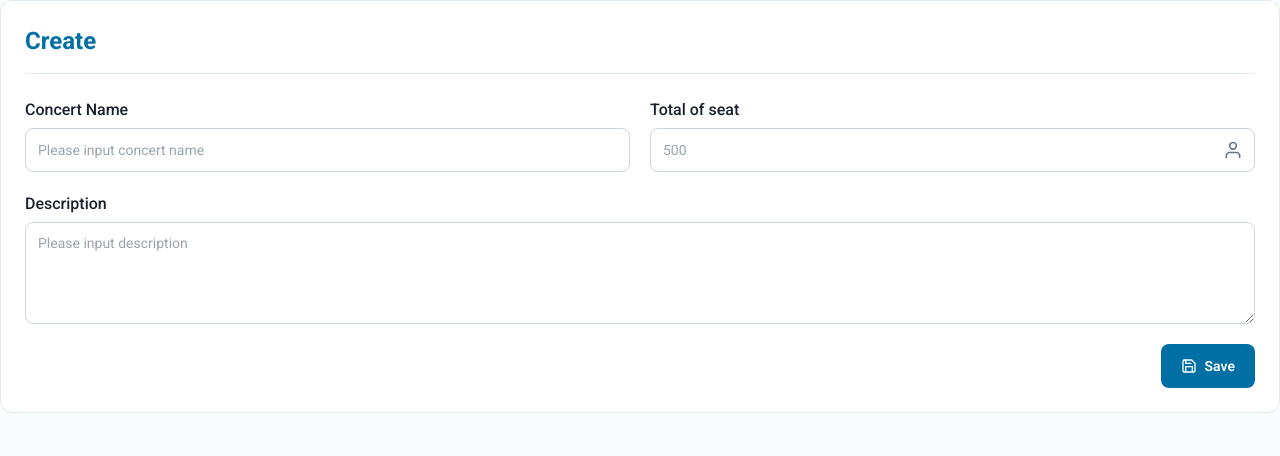
Test: ConcertForm validation › rejects non-positive seat counts
This screenshot has width=1280, height=456.
Type "Summer Live" into the field with test id "concert-name-input" at (328, 150), box [25, 128, 630, 172]
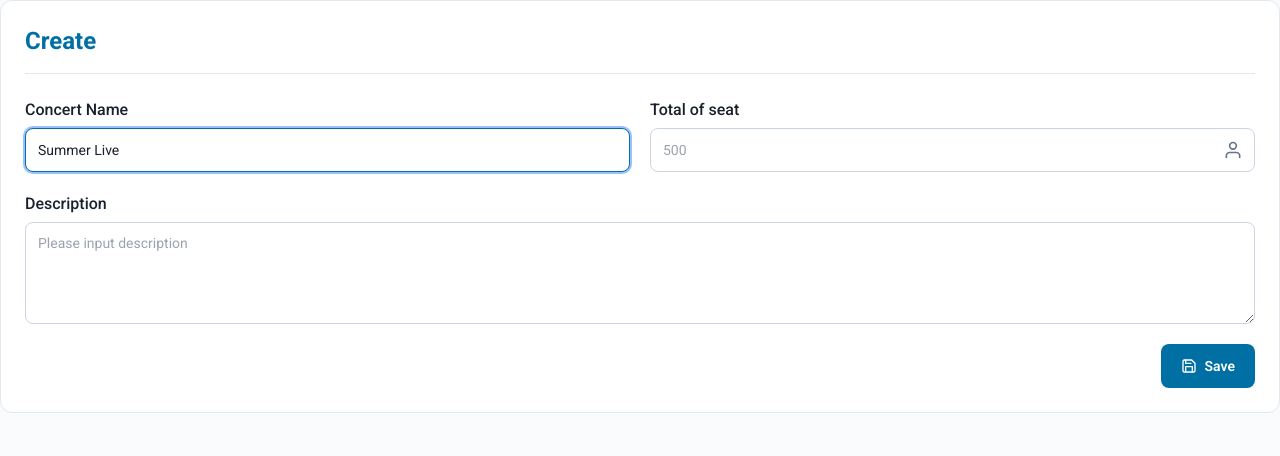
Type "Open-air" into the text box with test id "concert-description-input" at (640, 273), box [25, 222, 1255, 324]
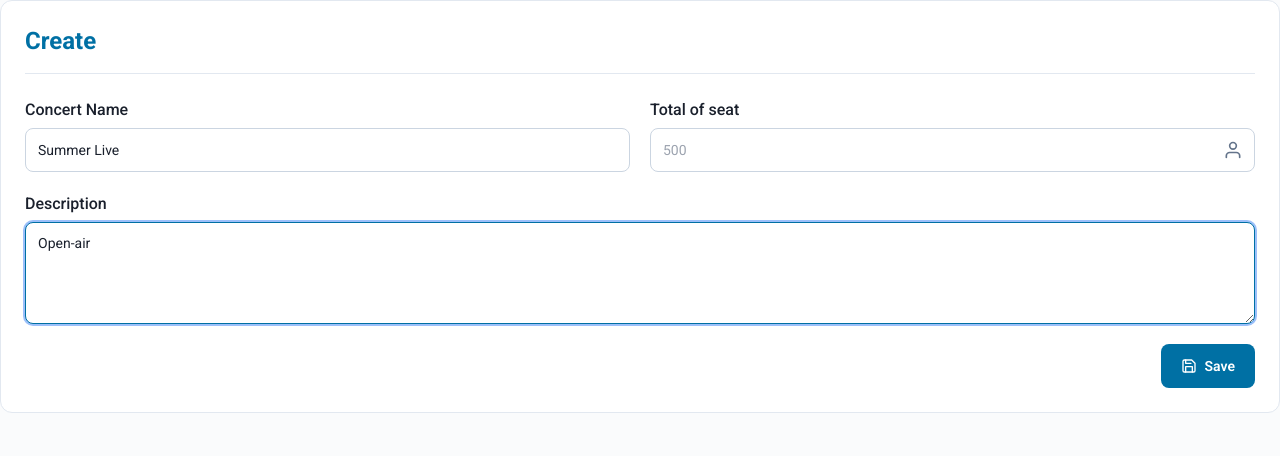
Type "0" into the number field with test id "concert-seats-input" at (952, 150), box [650, 128, 1255, 172]
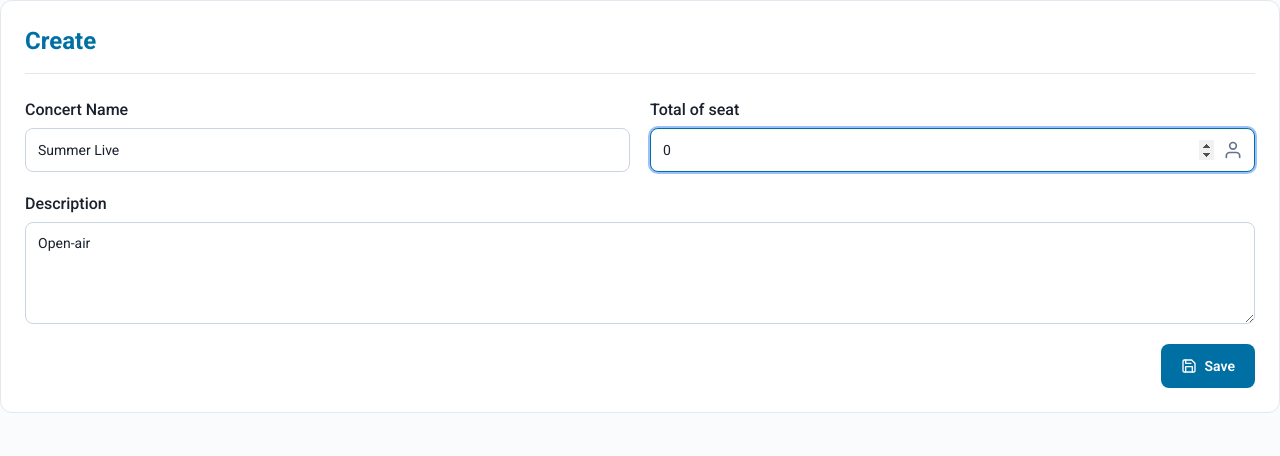
Click the button with test id "concert-save-btn" at (1208, 366), box [1161, 344, 1255, 388]
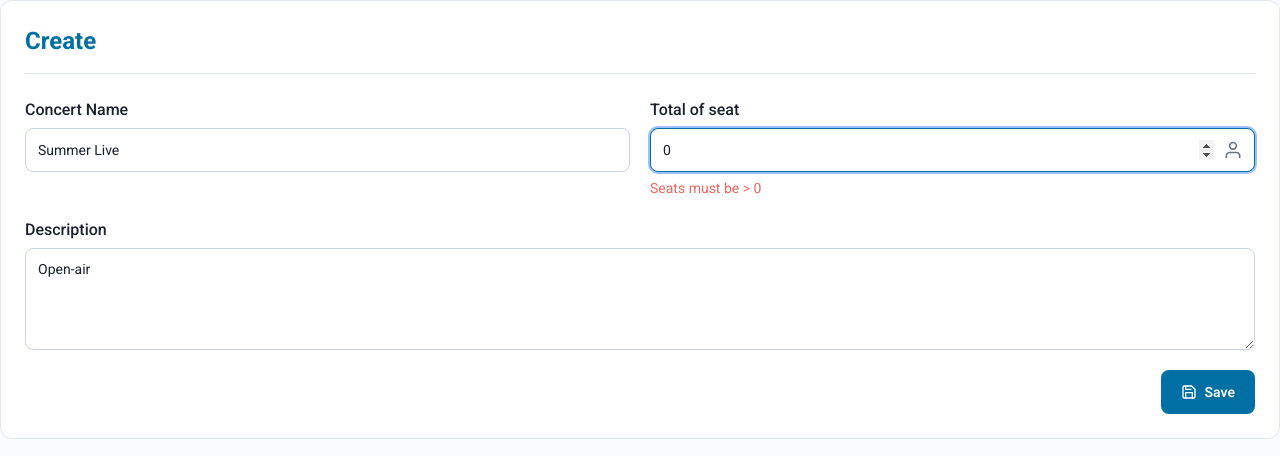
Now the text with test id "concert-seats-input-error" shows "> 0", box [650, 180, 761, 196]
